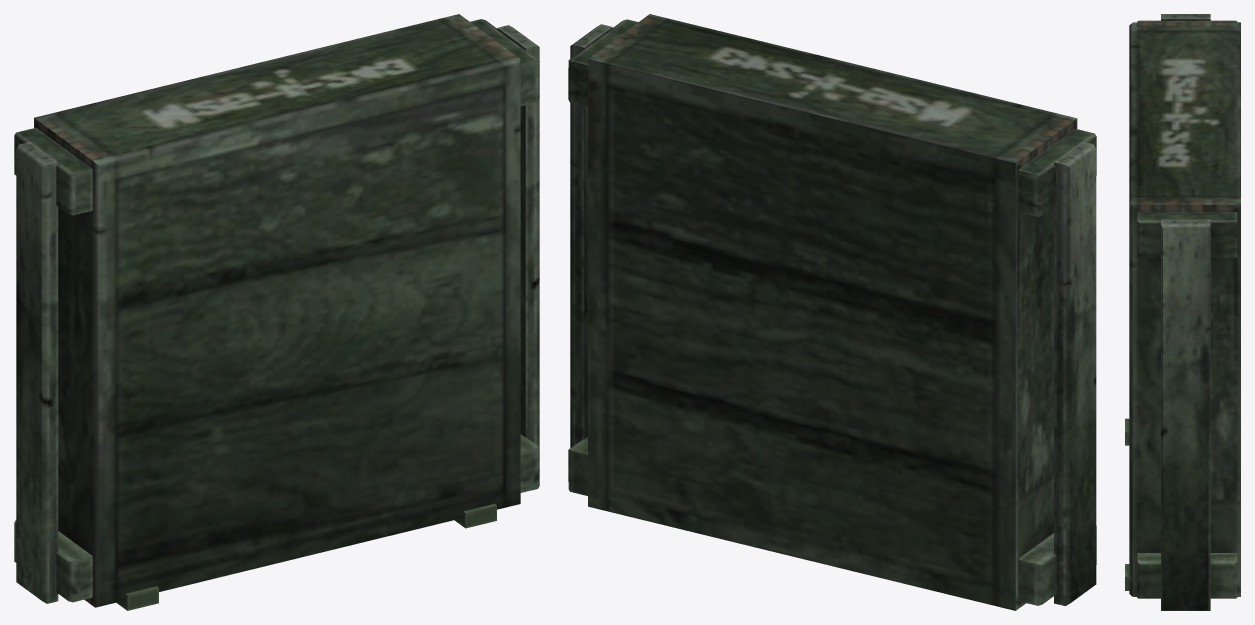
File: crate5.obj
3 renders of one model, left to right at view 1: azimuth 30°, elevation 25°; view 2: azimuth 150°, elevation 25°; view 3: azimuth 270°, elevation 25°, orthographic. The views are drawn at different scales.
Visible parts, largest first — view 1: studio.crateshell_ref.mesh_0; view 2: studio.crateshell_ref.mesh_0; view 3: studio.crateshell_ref.mesh_0.
Boxes of the visible parts, left/top/right/bottom form: studio.crateshell_ref.mesh_0: left=14, top=14, right=539, bottom=610; studio.crateshell_ref.mesh_0: left=568, top=14, right=1096, bottom=610; studio.crateshell_ref.mesh_0: left=1125, top=14, right=1240, bottom=610.
Size of the model in its own units: 19.93 by 17.3 by 4.56.
1 material, 1 textured.
